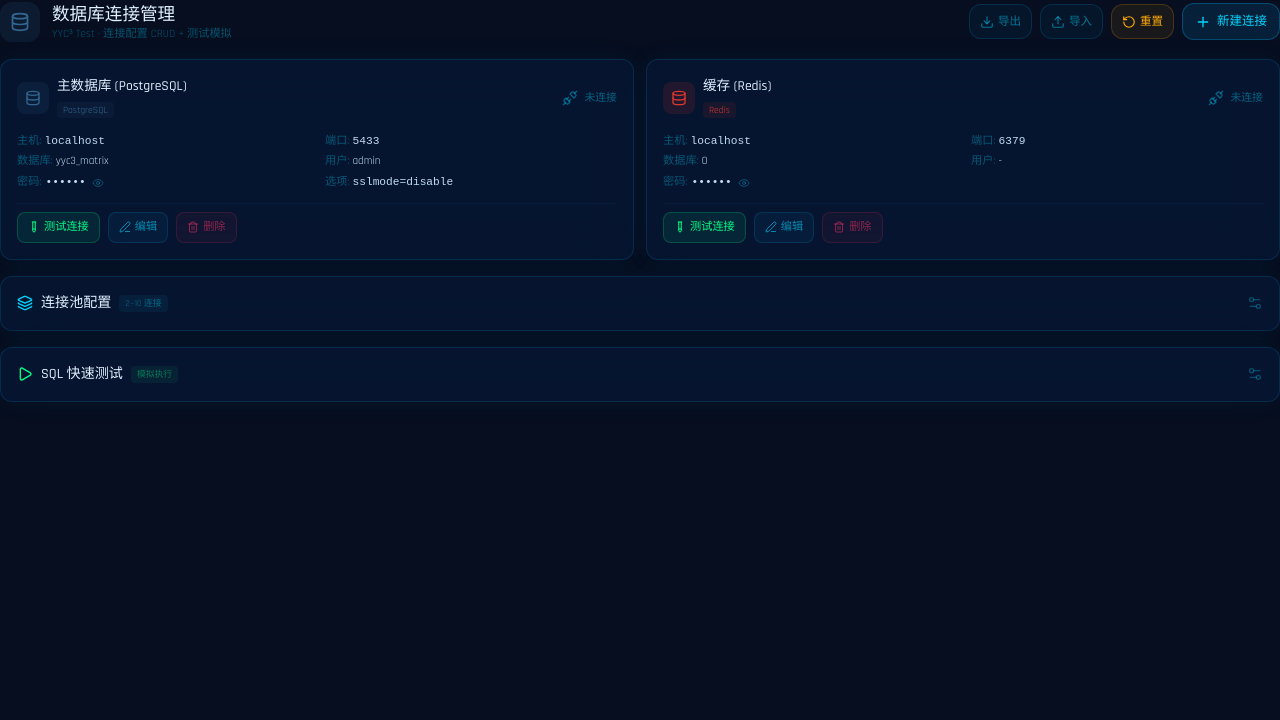
Test: DatabaseConnectionPanel › should show add form when 新建连接 is clicked
Step 1. Click the button "新建连接" → (1231, 22), box [1182,3,1279,40]
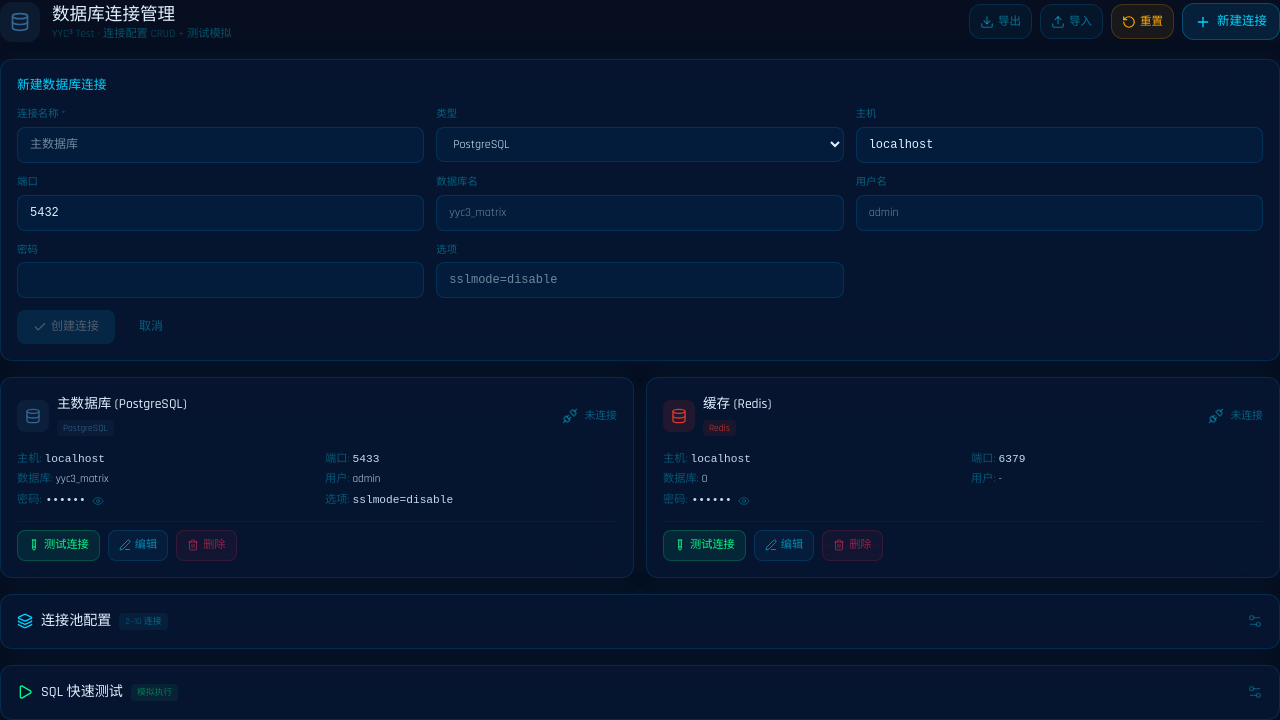
Result: the text "新建数据库连接" is shown at [17,77,107,93]
Result: the button "创建连接" is shown at [17,310,115,344]
